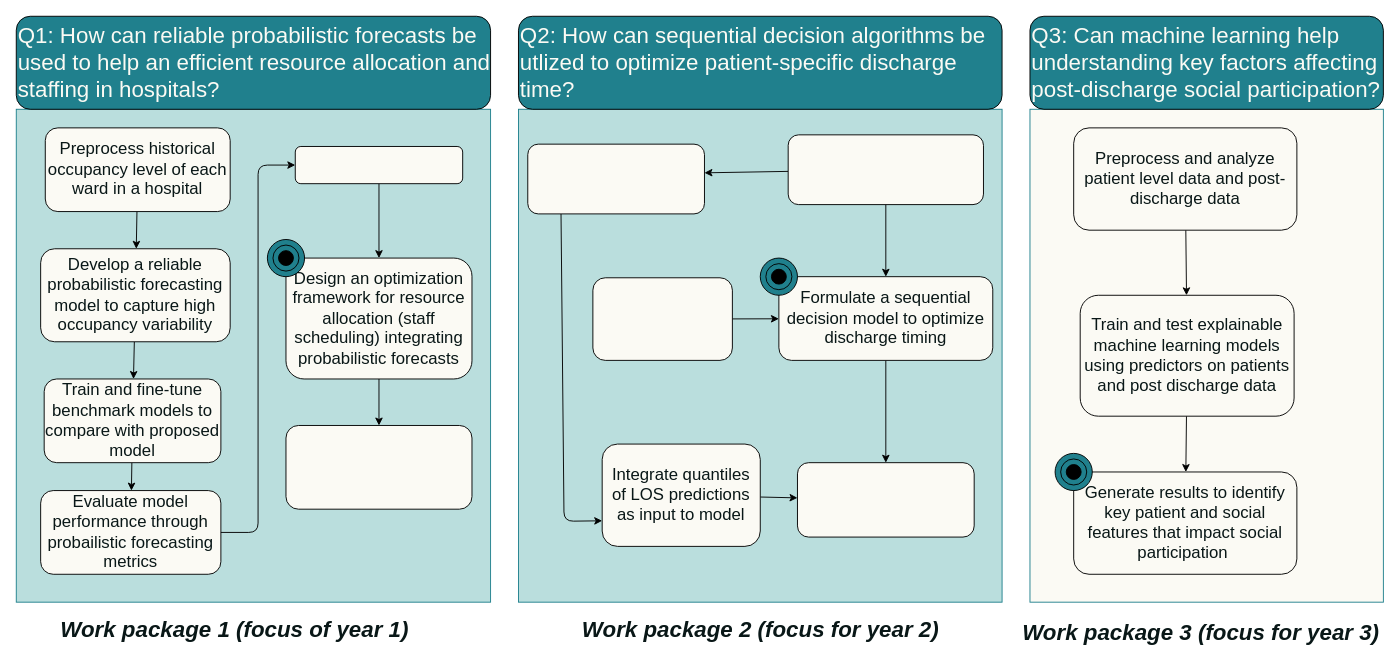
Some shapes in this 1400 by 662 pixel diagram are drawn without their labels. The centre of each missing label's shape, as x and y in pixels:
Build a personalized, real-time length-of-stay forecasting system: the point at 615,178
Chose the best model: the point at 378,165
Incorporate expert domain to define constraints: the point at 662,318
Incorporate expert domain to validate to results: the point at 378,467
Preprocess hospital patient flow, resource, and discharge data: the point at 885,169
Run simulations under realistic constraints: the point at 885,499
